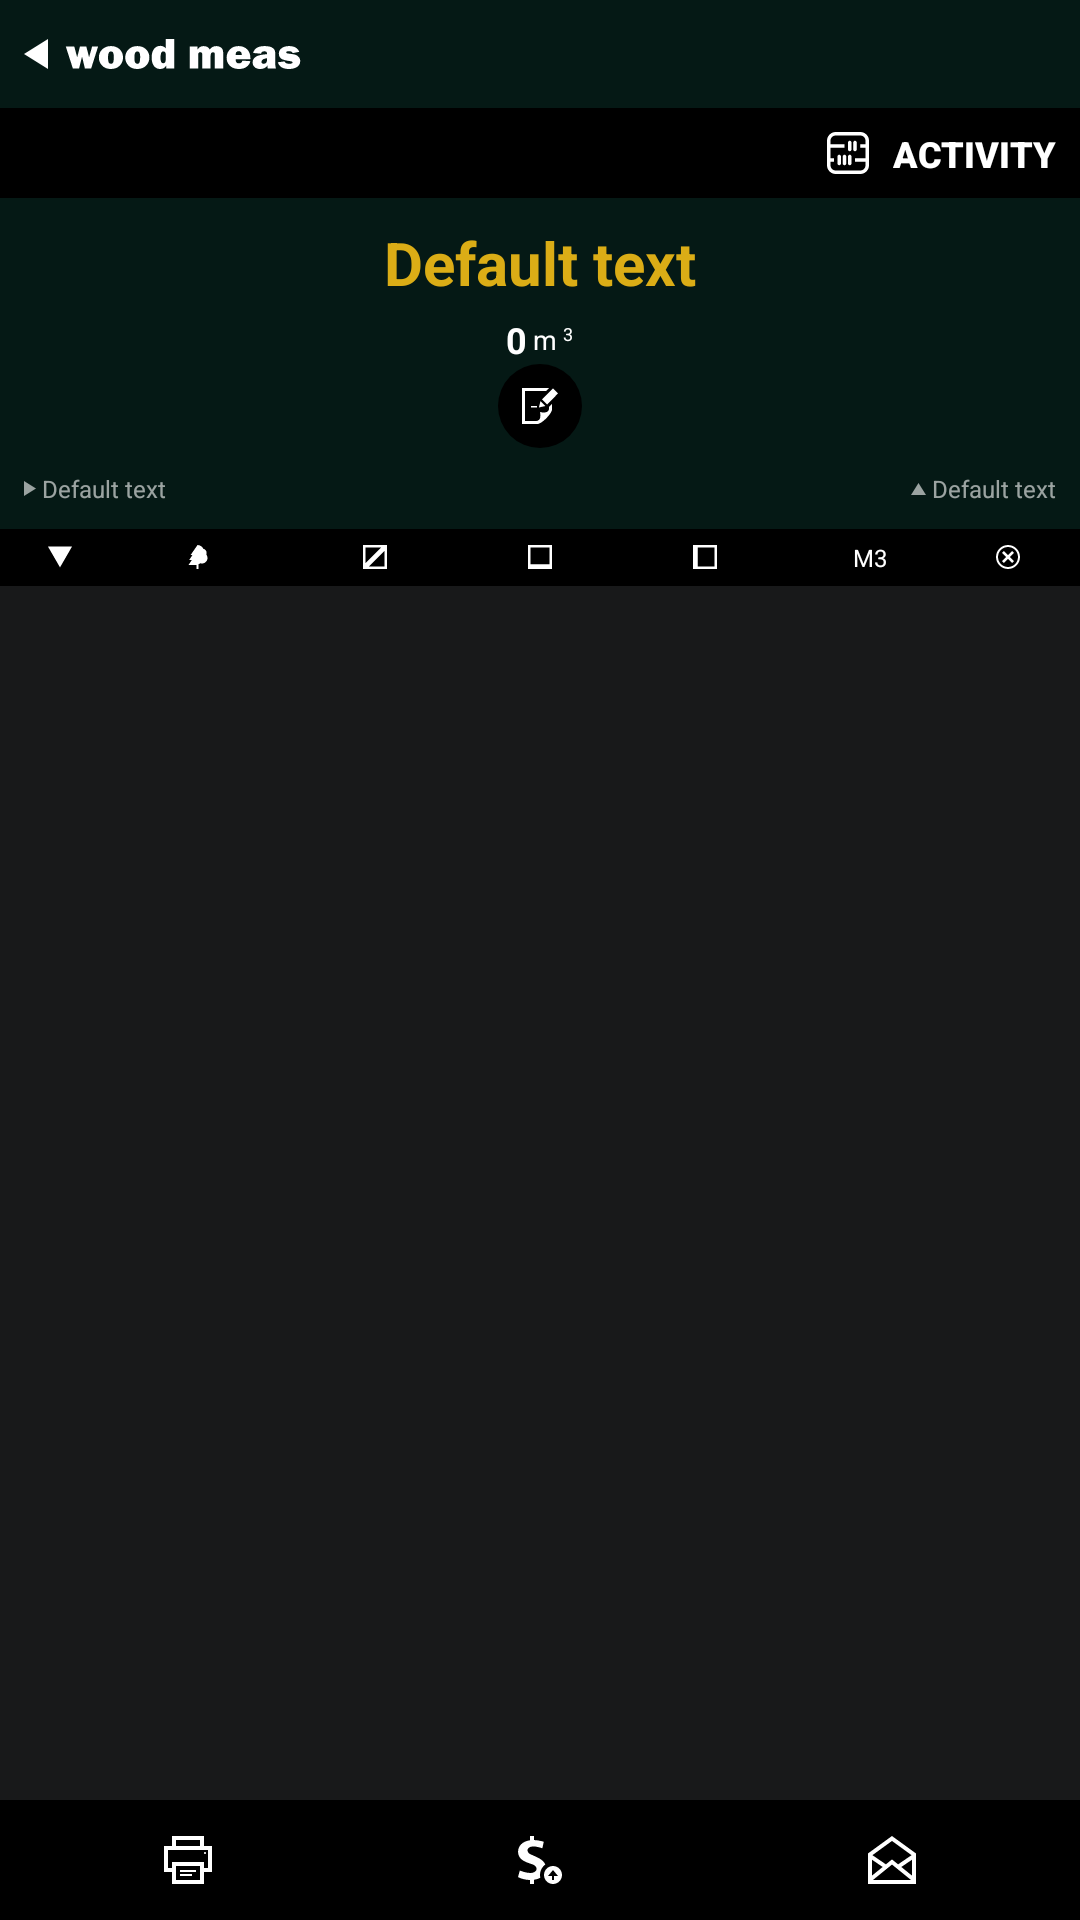

Icons on this 1080w x 1920h Android screen, each with its box as BBox(x1, y1, x2, y2):
cancel: BBox(996, 545, 1020, 569)
cubic to money: BBox(518, 1836, 562, 1884)
item calculator: BBox(827, 132, 869, 174)
note: BBox(498, 365, 581, 447)
Print: BBox(164, 1836, 212, 1884)
Send: BBox(868, 1836, 916, 1884)
triangle down: BBox(48, 546, 72, 567)
